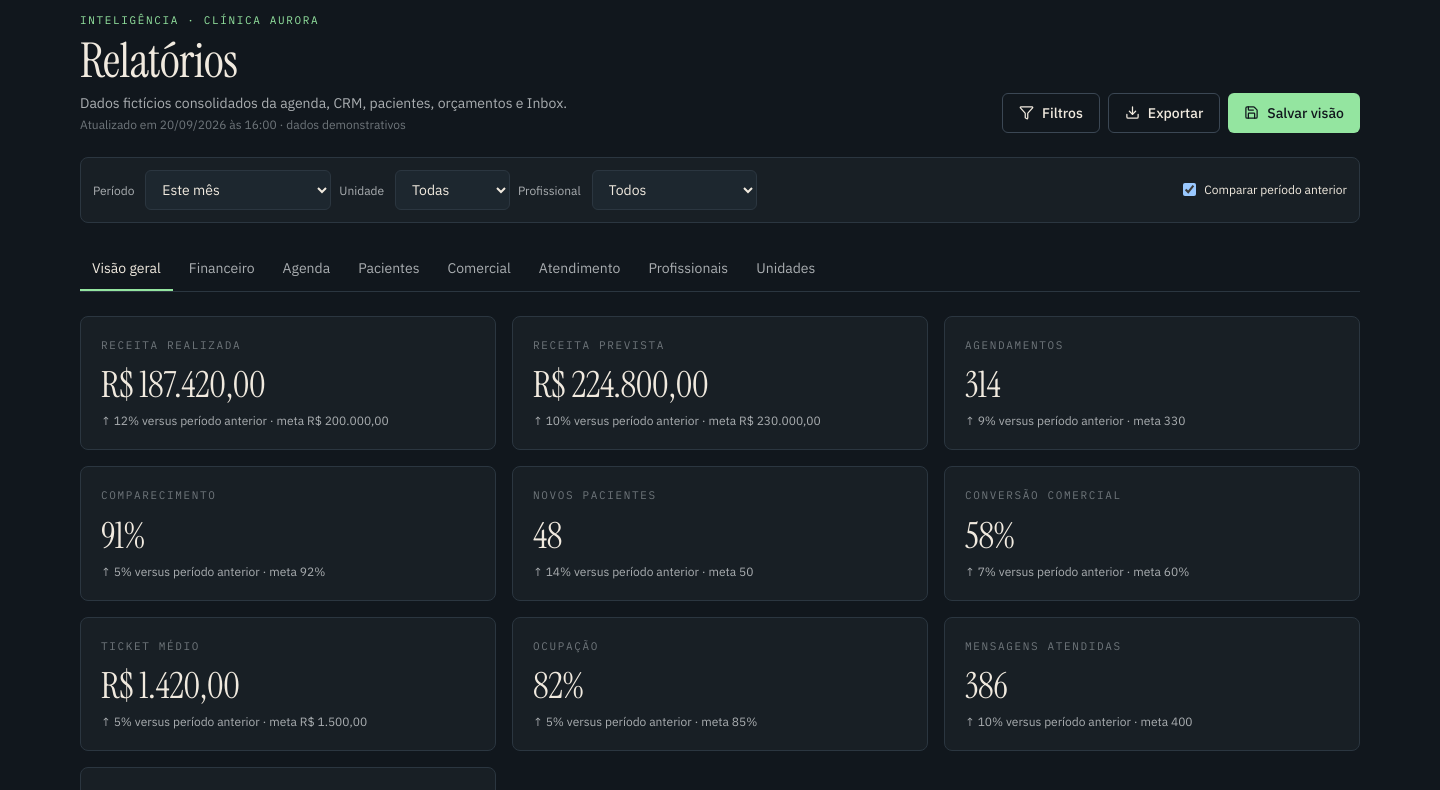
Scenario: relatórios › navega, filtra, salva visão, compara unidades e exporta
Expected: the heading "Relatórios" is shown, 80,28 -> 238,92
Expected: the text "Receita realizada" is shown, 101,338 -> 241,352
Click the tab "Profissionais".
click(688, 268)  # box 636,246 -> 740,290
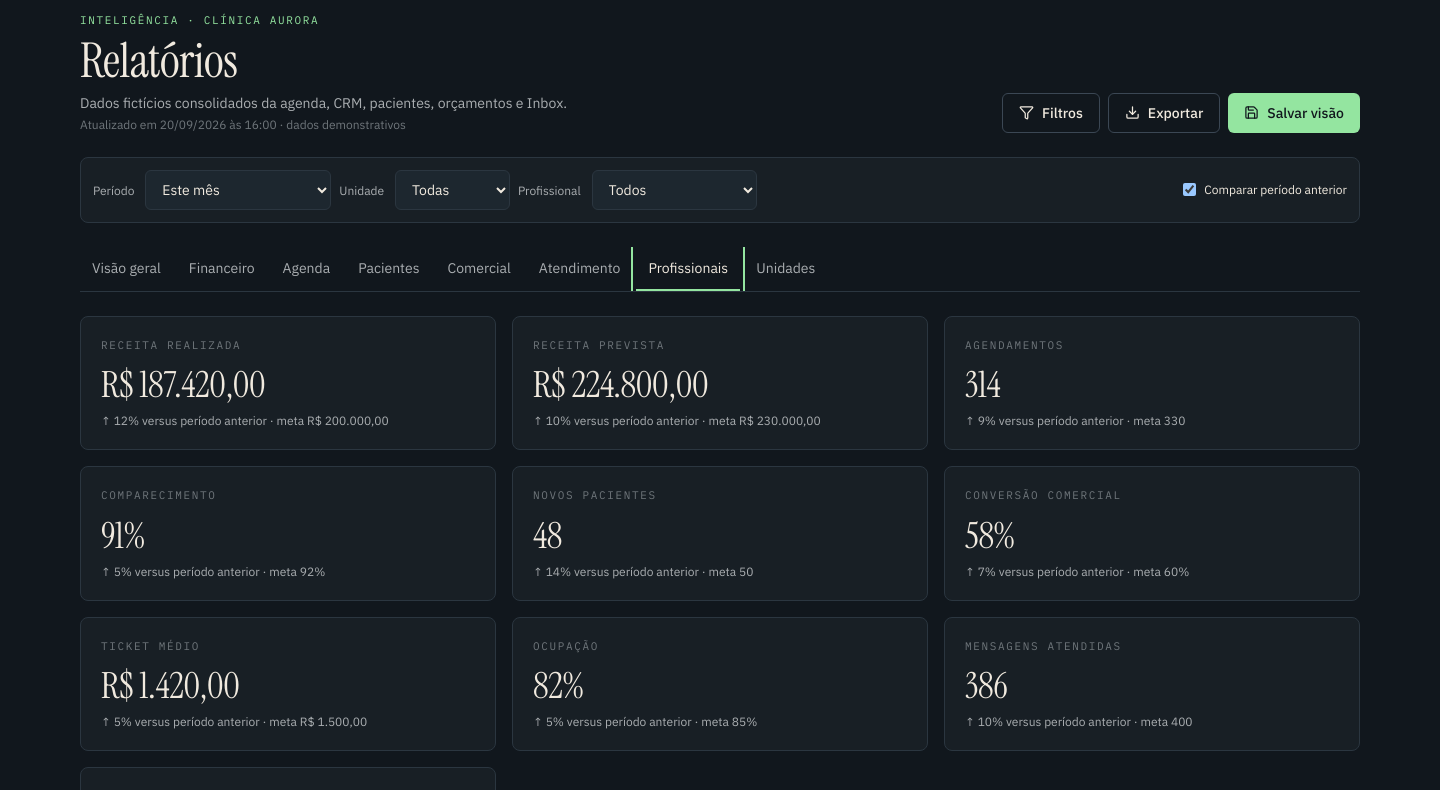
Click the tab "Unidades".
click(786, 268)  # box 744,246 -> 827,290
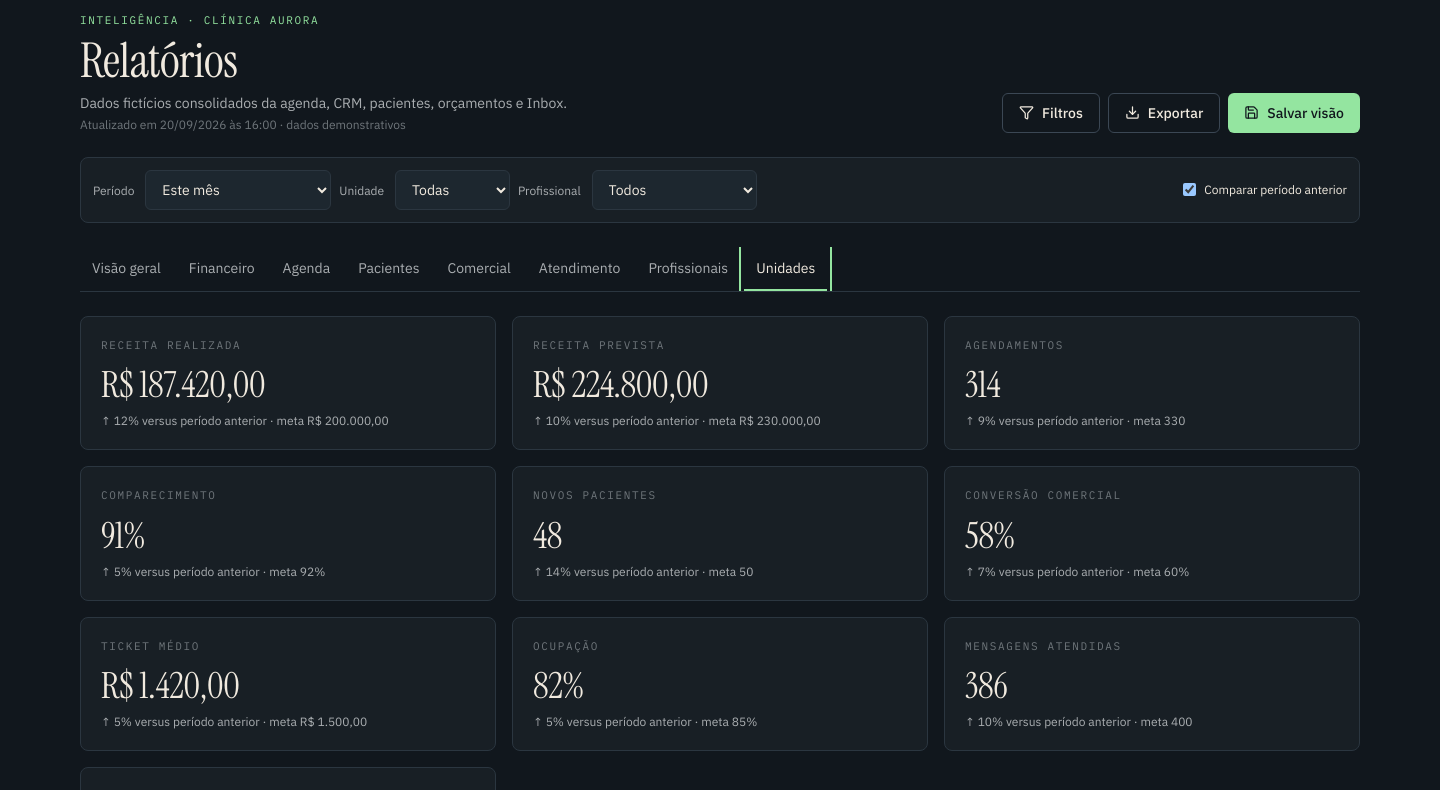
Click the button "Salvar visão".
click(1294, 112)  # box 1228,92 -> 1360,132
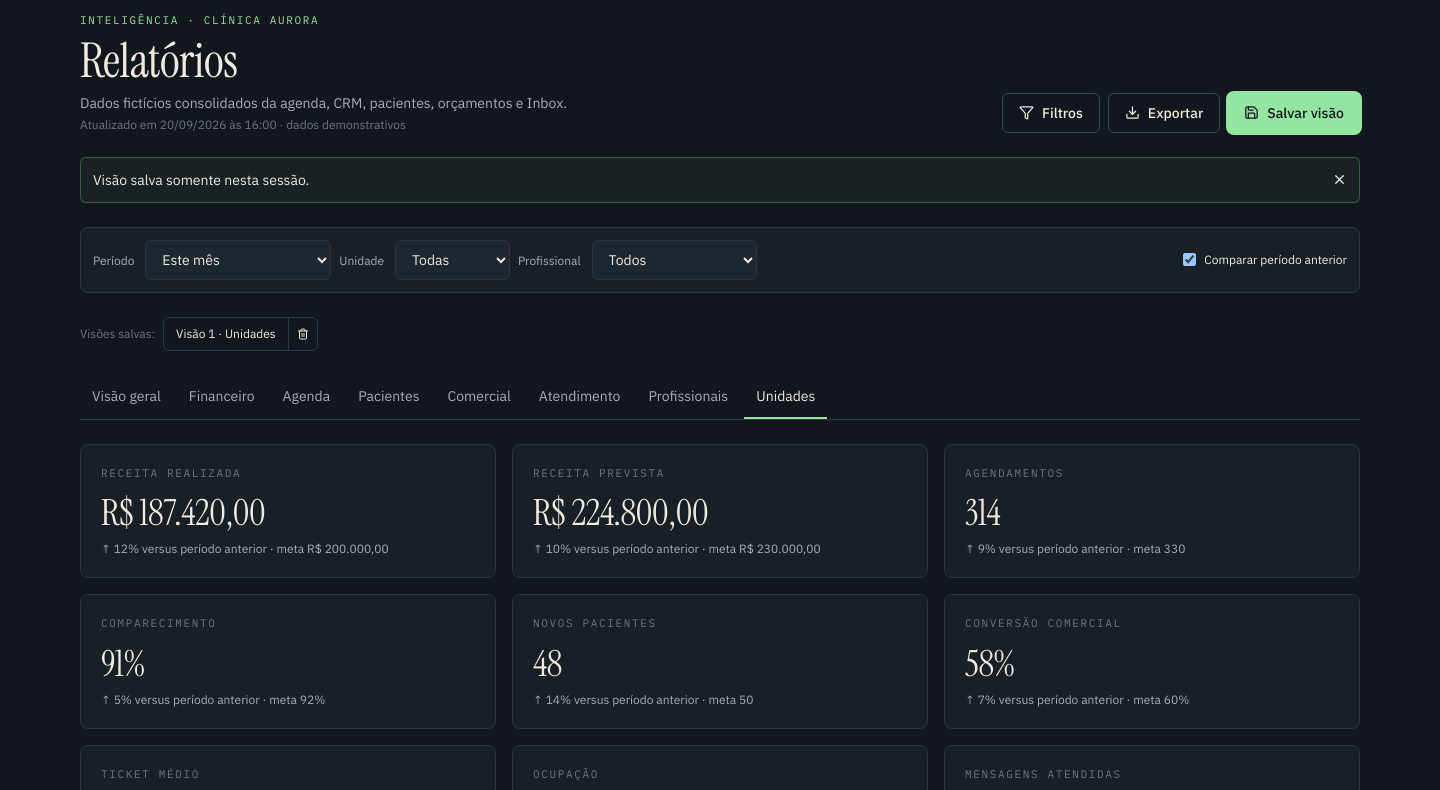
Expected: the element labelled "Visões salvas" is shown, 80,316 -> 318,350
Click the button "Exportar".
click(1164, 112)  # box 1108,92 -> 1220,132
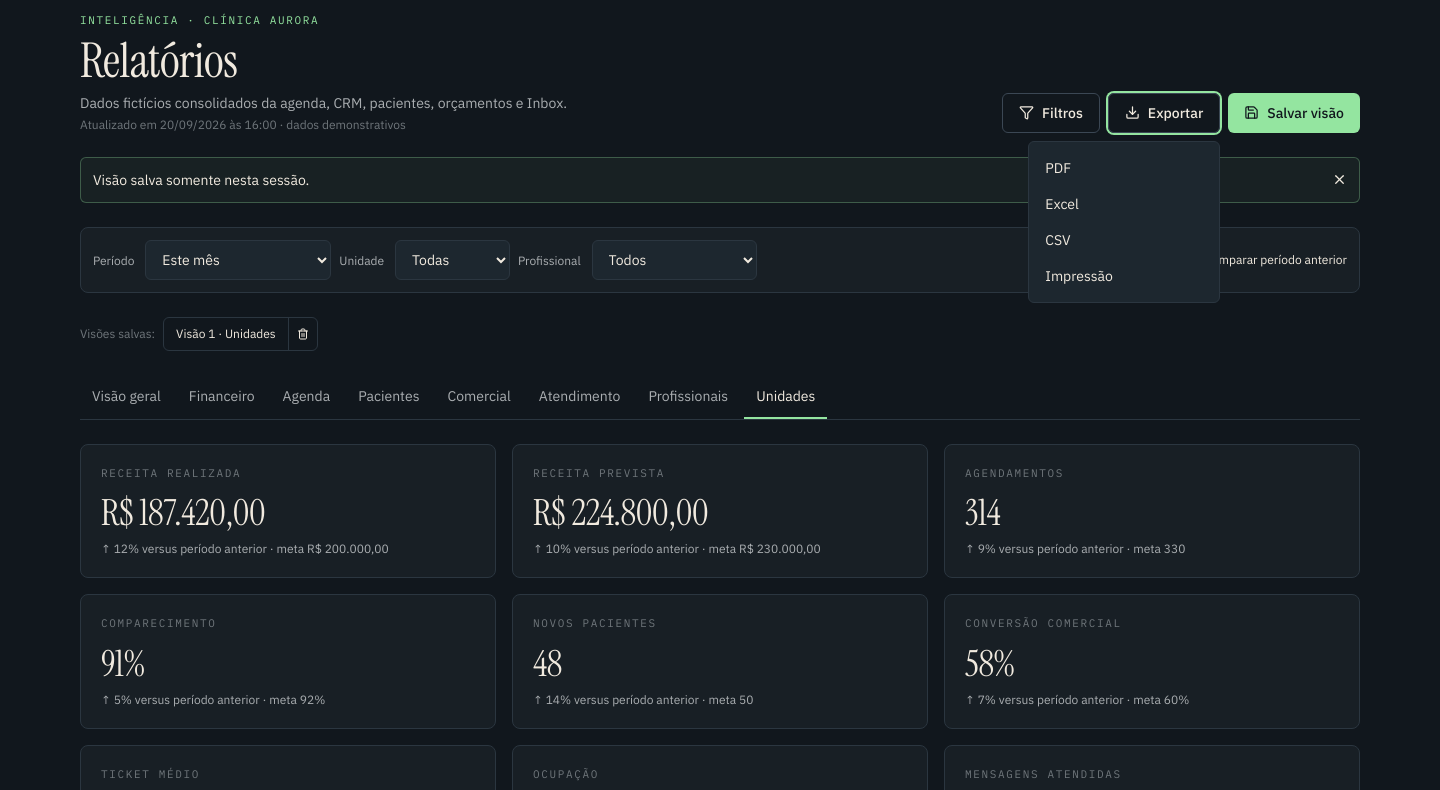
Click the button "CSV".
click(1124, 240)  # box 1037,222 -> 1211,258
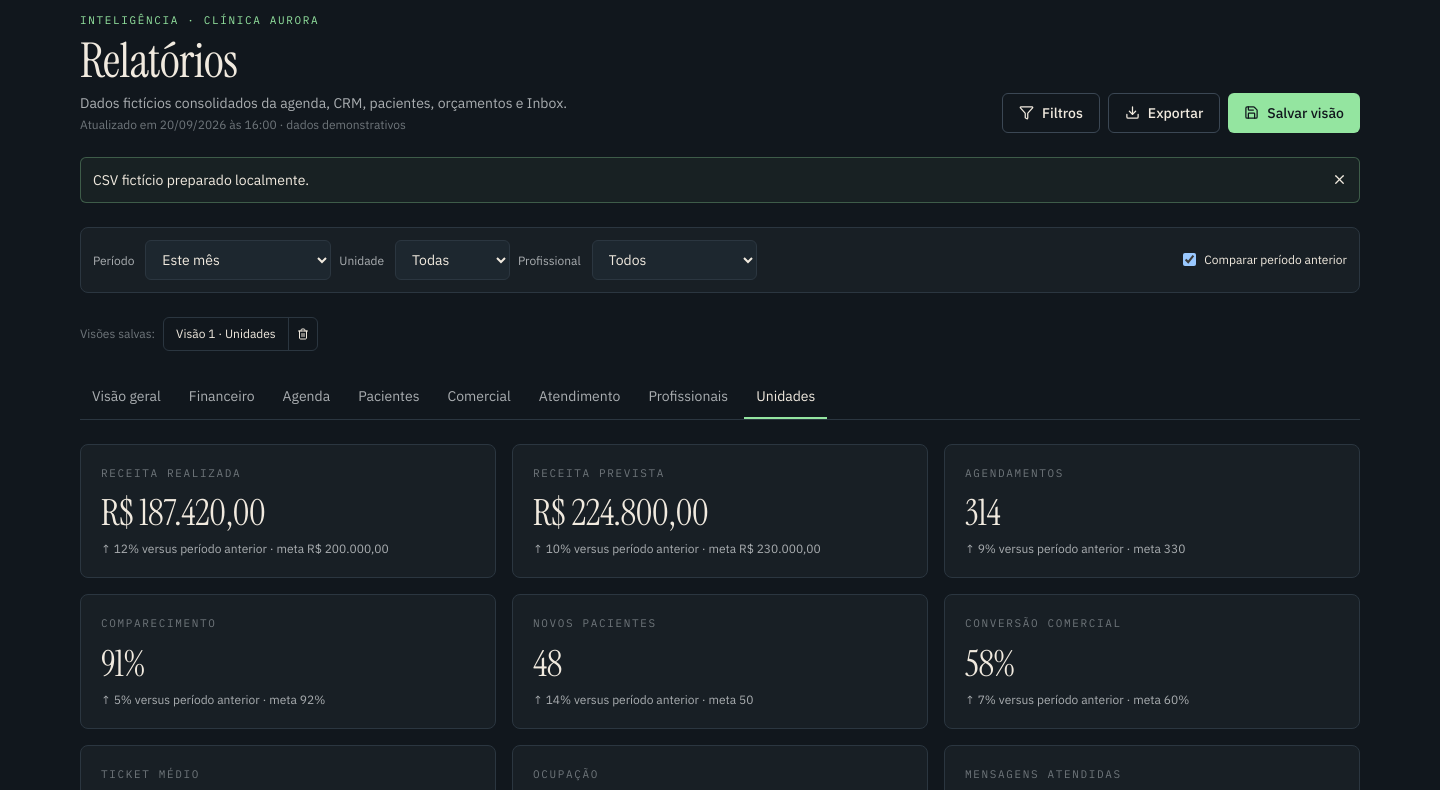
Expected: the message shows "CSV fictício", 93,170 -> 309,188
